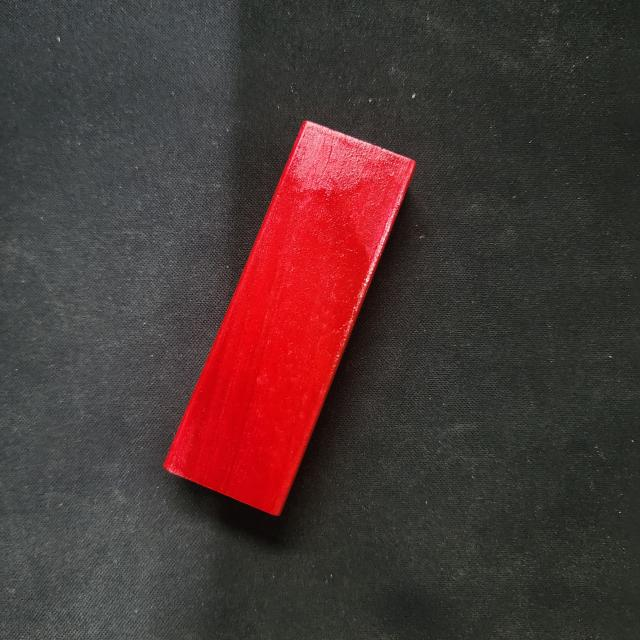red: (161, 117, 417, 518)
